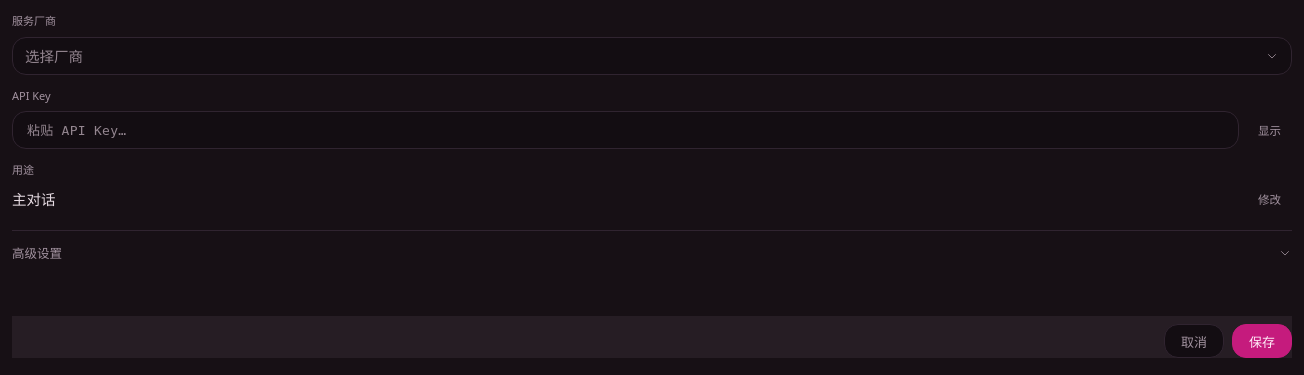
凭据表单 · 基础流程 › 关闭表单会清掉已输入的 API Key
Type "sk-should-be-cleared-1234" into the password field with id "cred-secret" at (626,130), box [12,111,1239,149]
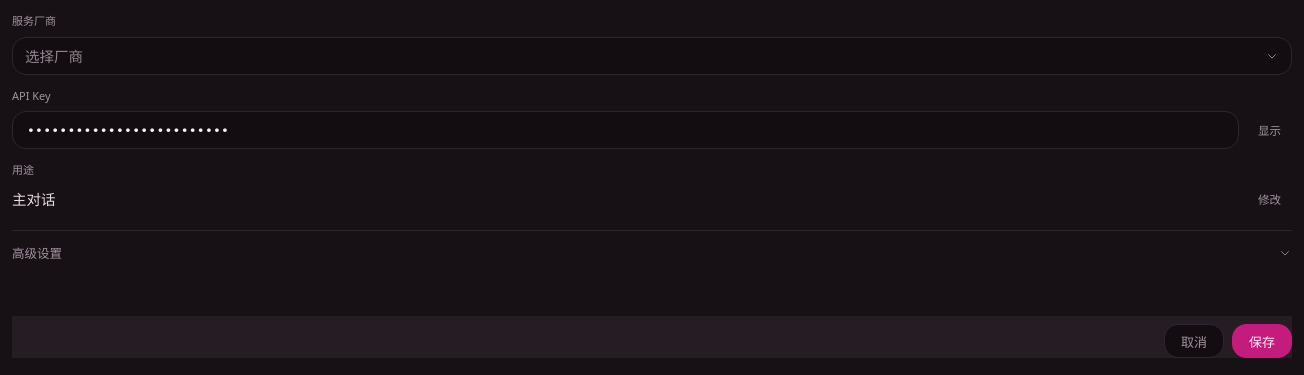
Click the button with class "btn-cancel" at (1194,341), box [1164,324,1224,358]
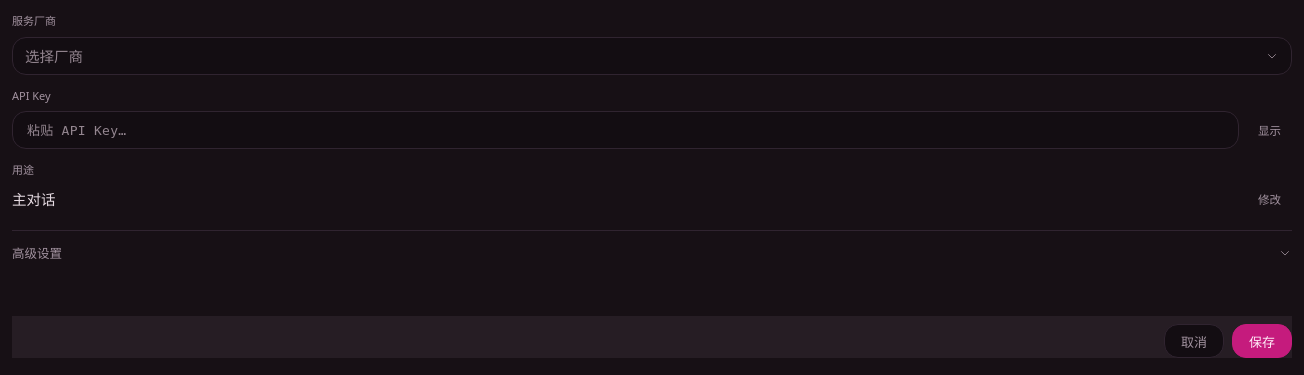
Expected: the password field with id "cred-secret" is empty, [12,111,1239,149]
